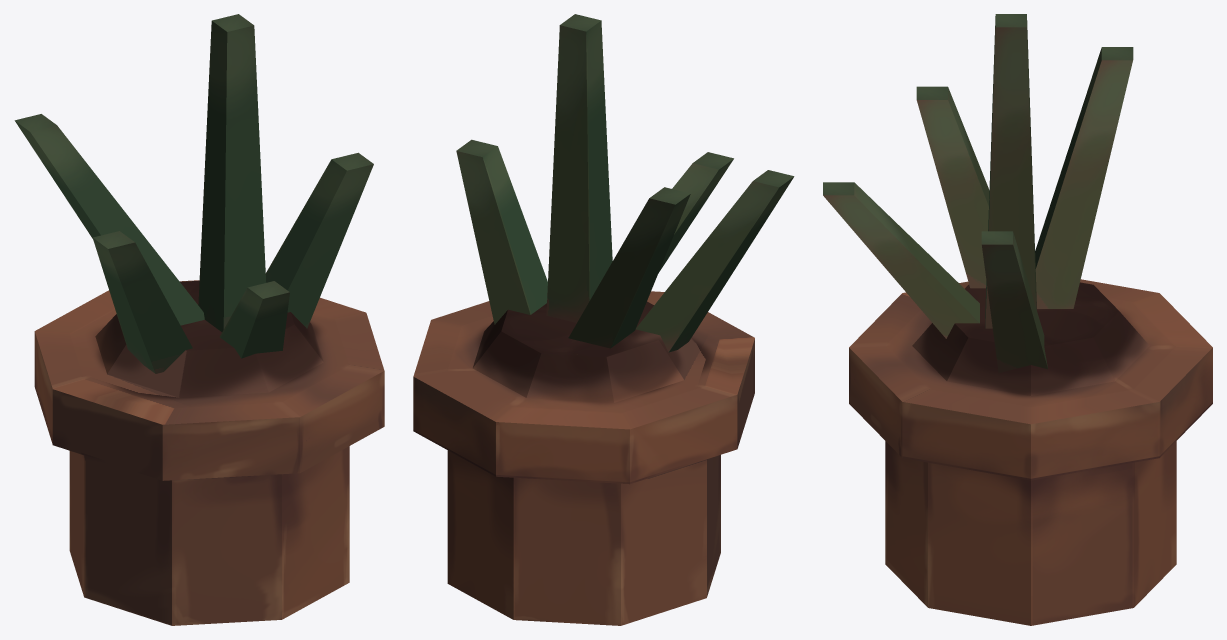
Rendered from Planta.fbx.
3 views of the same model, side by side, from view 1: azimuth 30°, elevation 25°; view 2: azimuth 150°, elevation 25°; view 3: azimuth 270°, elevation 25° (orthographic). The views are drawn at different scales.
Visible parts, largest first — view 1: Cube, Cube.003; view 2: Cube, Cube.003; view 3: Cube, Cube.003.
Boxes of the visible parts, x1,y1,x2,y2 form: Cube: (34,280,384,625); Cube.003: (14,14,373,373); Cube: (413,291,754,625); Cube.003: (456,14,794,352); Cube: (849,279,1212,625); Cube.003: (823,14,1133,372).
Size of the model in its own units: 303 by 504 by 323.
1 material, 1 textured.
